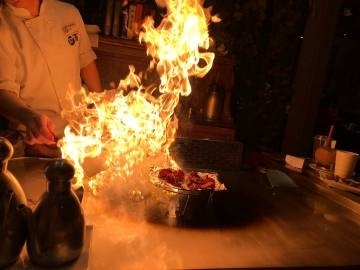fire: (59, 0, 217, 189)
